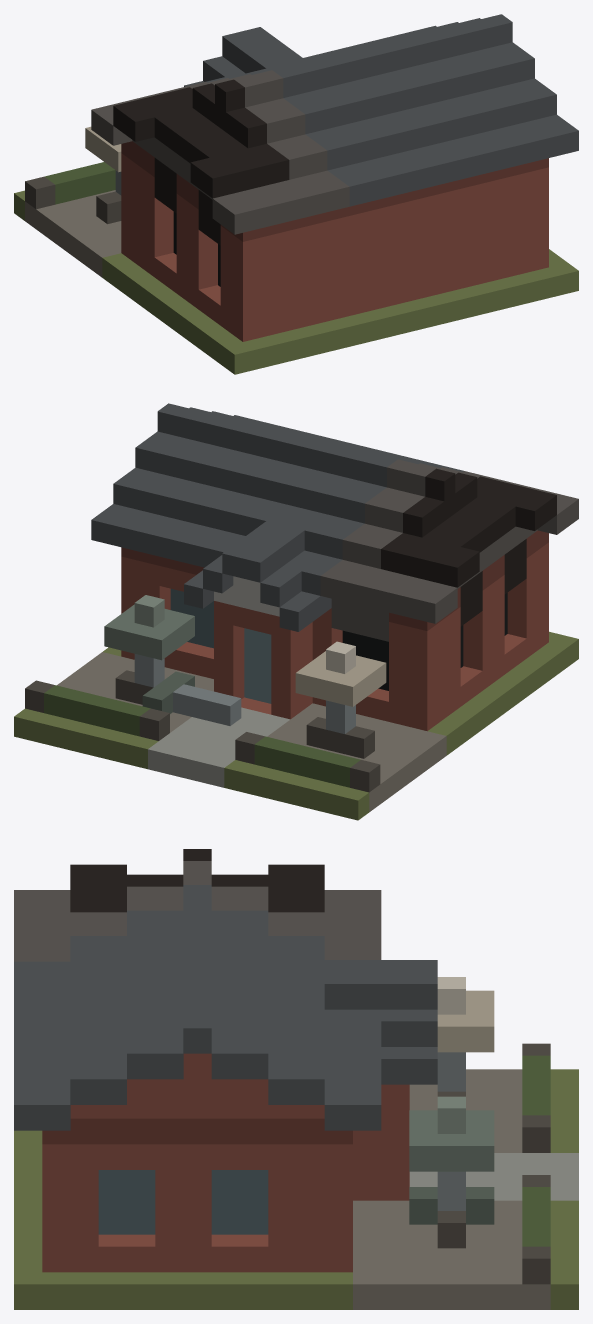
File: Claude_restaurant.glb
3 views of the same model, one above another, from view 1: azimuth 30°, elevation 25°; view 2: azimuth 150°, elevation 25°; view 3: azimuth 270°, elevation 25° (orthographic). The views are drawn at different scales.
Parts seen in each view (by area): view 1: Claude_restaurant; view 2: Claude_restaurant; view 3: Claude_restaurant.
Boxes of the visible parts, x1,y1,x2,y2 form: Claude_restaurant: (14,14,578,374); Claude_restaurant: (14,403,578,820); Claude_restaurant: (14,849,578,1309).
Bounding box in the file's own units: 9 × 5.5 × 10.
